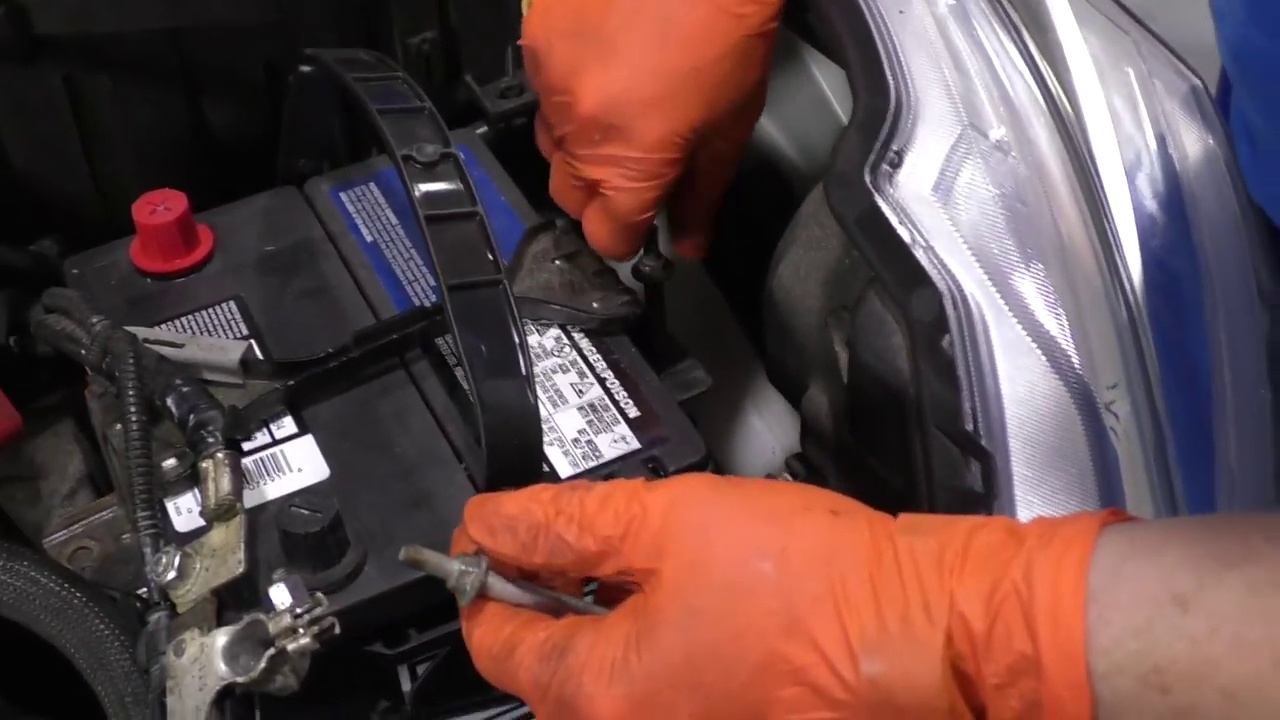battery: (57, 132, 706, 635)
pos_disconnected: (52, 170, 268, 308)
